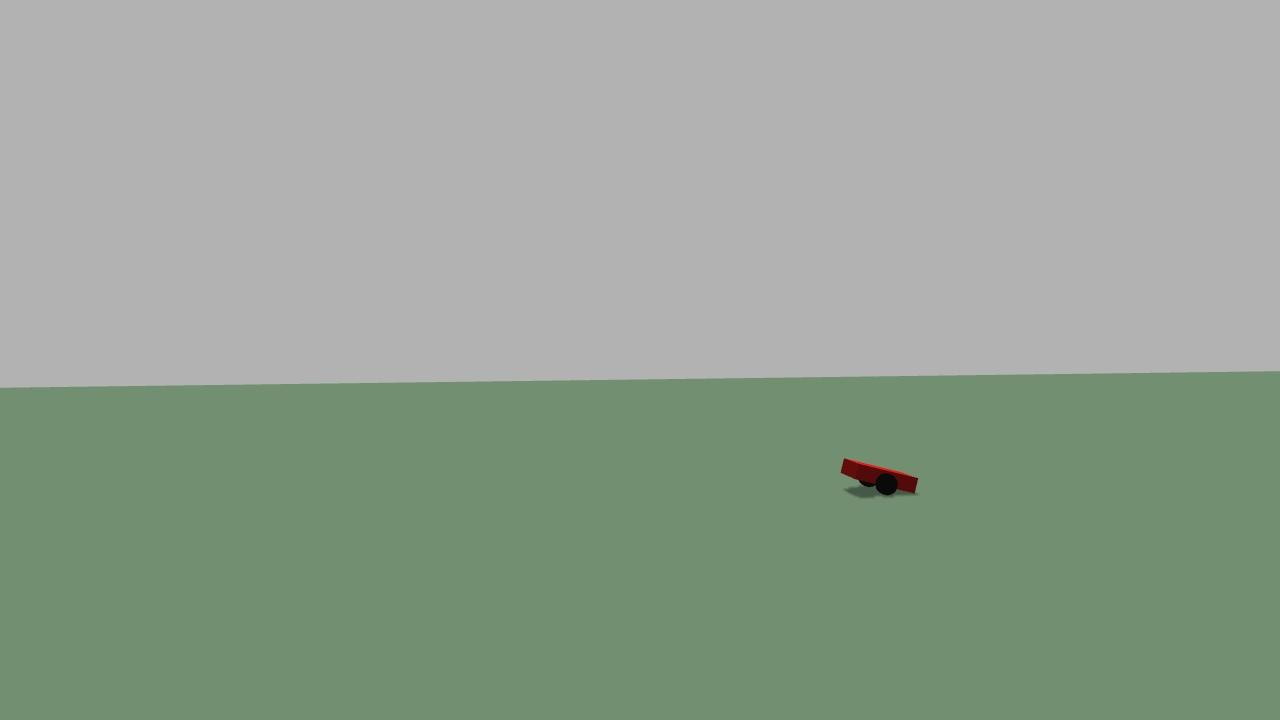ground_vehicle: (833, 428, 925, 508)
